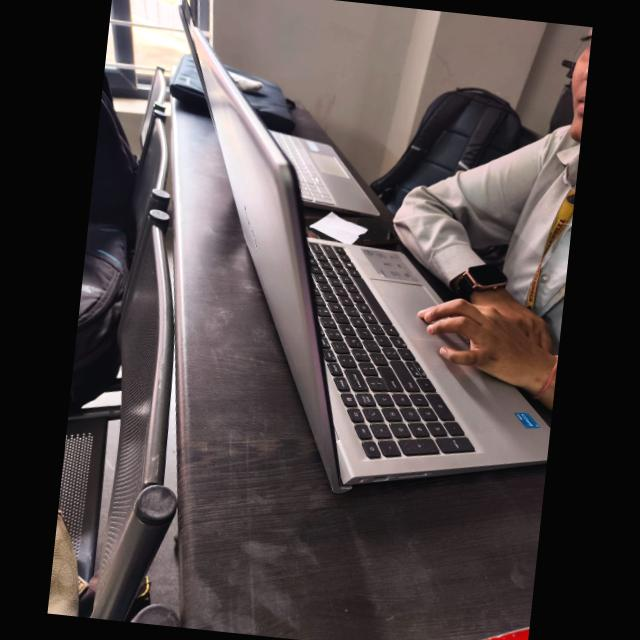laptop: (70, 1, 550, 546)
